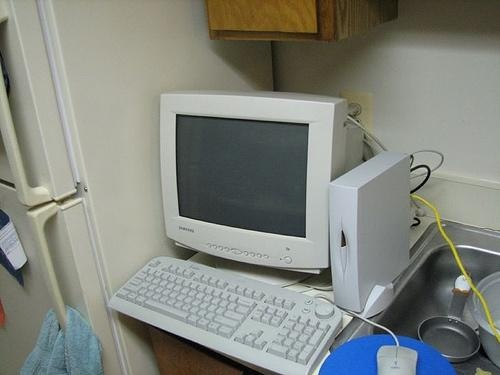tvmonitor: (156, 89, 344, 279)
